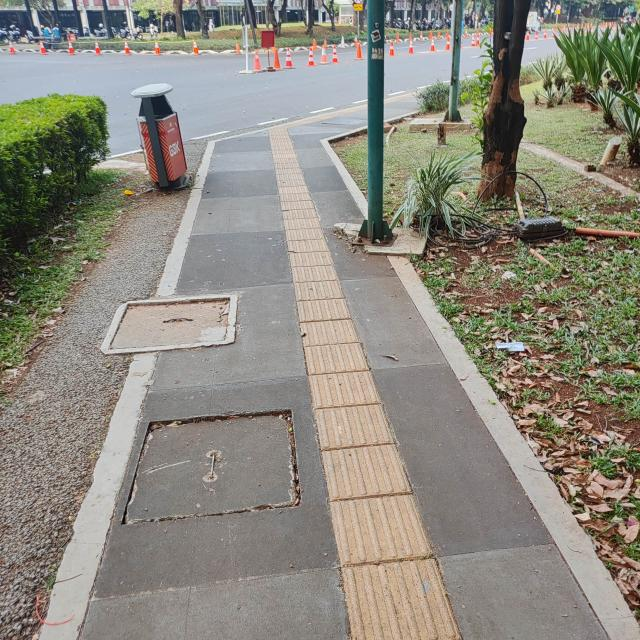lurus: (269, 159, 430, 640)
